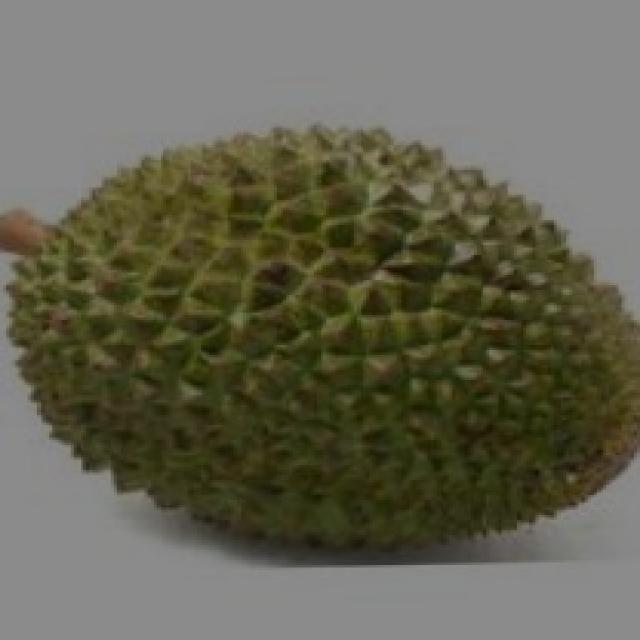fruit: (283, 132, 640, 562), (0, 143, 354, 565)
